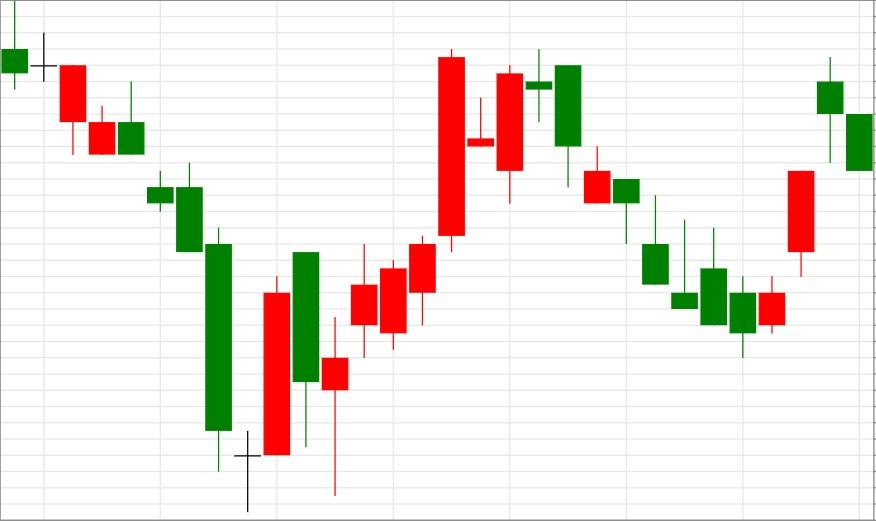evening_star_fall: (233, 48, 582, 512)
morning_star_rise: (0, 0, 291, 512)
